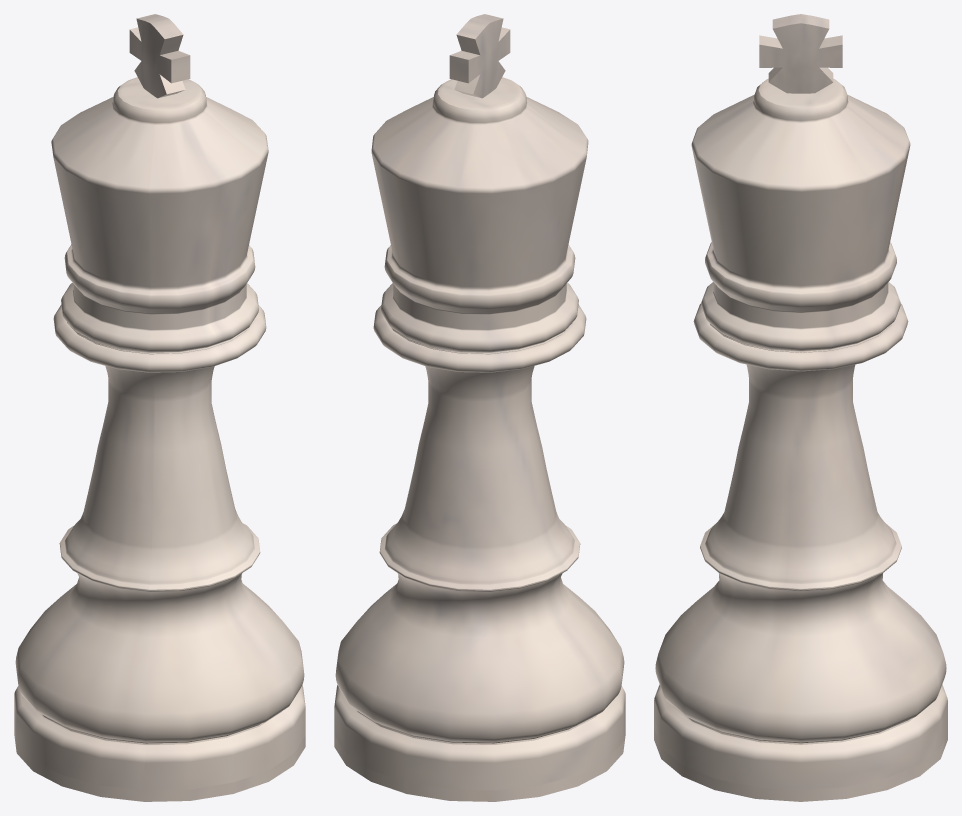
The model's file is king.obj.
3 views of the same model, side by side, from view 1: azimuth 30°, elevation 25°; view 2: azimuth 150°, elevation 25°; view 3: azimuth 270°, elevation 25° (orthographic).
Visible parts, largest first — view 1: chessKitExport.001; view 2: chessKitExport.001; view 3: chessKitExport.001.
Part boxes in pixels (x1,y1,x2,y2): chessKitExport.001: [14, 14, 305, 801]; chessKitExport.001: [334, 14, 625, 801]; chessKitExport.001: [654, 14, 947, 801].
Bounding box in the file's own units: 3.35 × 9.08 × 3.35.
1 material, 1 textured.
